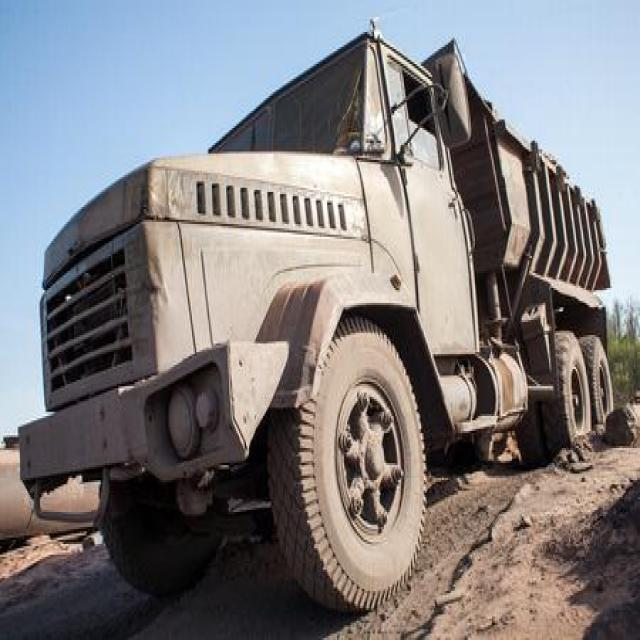Camion volquete: (18, 19, 616, 625)
